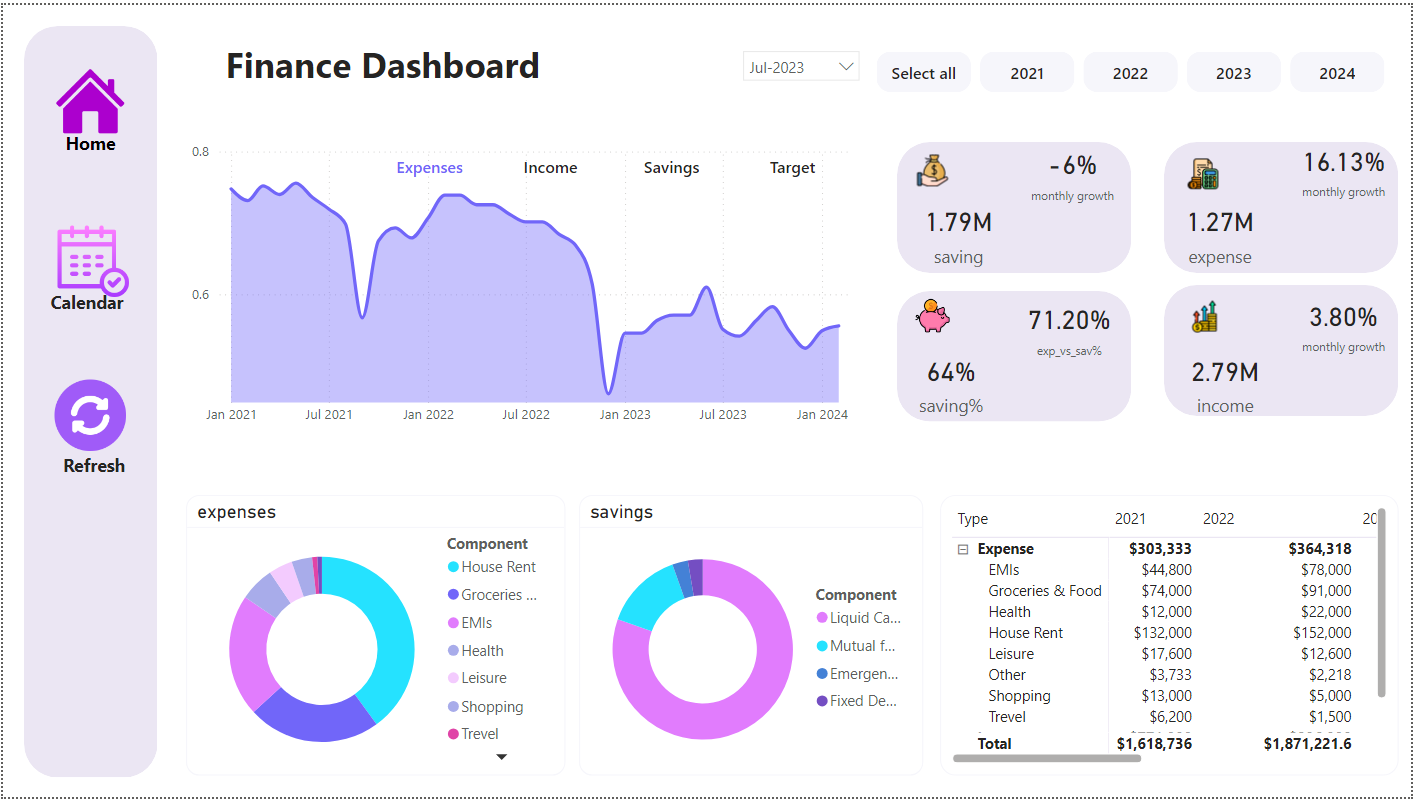

What the dashboard file says about the page in this screenshot:
{"tool":"powerbi","page":{"name":"Page 1","canvas":[1280,720],"ordinal":0},"visuals":[{"type":"shape","box":[1055.6,125,213,119],"z":0},{"type":"shape","box":[1055.6,254.7,213,119],"z":1000},{"type":"shape","box":[812.8,125,213,119],"z":2000},{"type":"shape","box":[813.1,259.7,213,118.7],"z":3000},{"type":"card","fields":{"Values":["FinData.saving"]},"box":[813.1,170.2,111.9,72.9],"z":4000},{"type":"card","fields":{"Values":["FinData.expense"]},"box":[1043.6,170.2,125.5,72.9],"z":5000},{"type":"card","fields":{"Values":["FinData.income"]},"box":[1060.2,283,102.1,119.6],"z":6000},{"type":"advancedSlicerVisual","fields":{"Values":["FinData.year"]},"box":[789,36.9,472.5,47.6],"z":7000},{"type":"donutChart","title":"savings","fields":{"Y":["FinData.saving"],"Category":["FinData.Component"]},"box":[523.6,445.1,313,254.7],"z":8000},{"type":"donutChart","title":"expenses","fields":{"Category":["FinData.Component"],"Y":["FinData.expense"]},"box":[166.6,445.1,345.1,254.7],"z":9000},{"type":"pivotTable","fields":{"Rows":["FinData.Type","FinData.Component"],"Values":["FinData.total_value"],"Columns":["FinData.year"]},"box":[852.1,445.1,416.5,254.7],"z":10000},{"type":"areaChart","fields":{"Category":["FinData.Date.Variation.Date Hierarchy.Year"],"Y":["FinData.line_chart_measures"]},"box":[166.6,119,622.4,271.3],"z":11000},{"type":"advancedSlicerVisual","fields":{"Values":["line_selection_table.Type"]},"box":[332,119,443.9,53.6],"z":12000},{"type":"textbox","box":[197.4,26.3,314.2,58.4],"z":13000},{"type":"card","fields":{"Values":["FinData.saving%"]},"box":[813.1,283,98.2,119.6],"z":14000},{"type":"shape","box":[19,19,121.4,683.1],"z":15000},{"type":"slicer","fields":{"Values":["selected_date.month"]},"box":[662.4,32.1,126.4,56.4],"z":16000},{"type":"card","fields":{"Values":["FinData.expenses_monthly_gr"]},"box":[1169.1,112.8,99.2,72],"z":17000},{"type":"card","fields":{"Values":["FinData.savings_monthly_gr"]},"box":[925,118.7,95.3,66.1],"z":18000},{"type":"card","fields":{"Values":["FinData.income_monthly_gr"]},"box":[1169.1,254.8,99.2,71],"z":19000},{"type":"card","fields":{"Values":["FinData.exp_vs_sav%"]},"box":[925,259.7,89.5,66.1],"z":20000},{"type":"image","box":[824.8,131.3,40.9,38.9],"z":21000},{"type":"image","box":[824.8,259.7,40.9,45.7],"z":22000},{"type":"image","box":[1070.9,134.2,40.9,37.9],"z":23000},{"type":"image","box":[1072.8,262.6,38.9,40.9],"z":24000},{"type":"image","box":[41.8,49.6,74.9,74.9],"z":25000},{"type":"textbox","box":[44.7,109.9,70,34],"z":26000},{"type":"image","box":[44.7,195.5,74.9,74.9],"z":27000},{"type":"textbox","box":[34,254.8,85.6,31.1],"z":28000},{"type":"image","box":[41.8,335.6,74.9,74.9],"z":29000},{"type":"textbox","box":[40.9,402.7,83.6,34],"z":30000},{"type":"actionButton","title":"refresh","box":[34,333.6,90.5,86.6],"z":31000},{"type":"actionButton","title":"show","box":[44.5,195.1,69.6,67.3],"z":33000}]}

Visuals, with their boxes on the page's 1280x720 design canvas (x1, y1, x2, y2). These are canvas units, not pixel positions in the 1418x802 screenshot, which may show the page scaled, cropped or inside an application window:
shape: {"x1": 1056, "y1": 125, "x2": 1269, "y2": 244}
shape: {"x1": 1056, "y1": 255, "x2": 1269, "y2": 374}
shape: {"x1": 813, "y1": 125, "x2": 1026, "y2": 244}
shape: {"x1": 813, "y1": 260, "x2": 1026, "y2": 378}
card - FinData.saving: {"x1": 813, "y1": 170, "x2": 925, "y2": 243}
card - FinData.expense: {"x1": 1044, "y1": 170, "x2": 1169, "y2": 243}
card - FinData.income: {"x1": 1060, "y1": 283, "x2": 1162, "y2": 403}
advancedSlicerVisual - FinData.year: {"x1": 789, "y1": 37, "x2": 1262, "y2": 84}
"savings" donutChart: {"x1": 524, "y1": 445, "x2": 837, "y2": 700}
"expenses" donutChart: {"x1": 167, "y1": 445, "x2": 512, "y2": 700}
pivotTable - FinData.Type x FinData.Component: {"x1": 852, "y1": 445, "x2": 1269, "y2": 700}
areaChart - FinData.Date.Variation.Date Hierarchy.Year x FinData.line_chart_measures: {"x1": 167, "y1": 119, "x2": 789, "y2": 390}
advancedSlicerVisual - line_selection_table.Type: {"x1": 332, "y1": 119, "x2": 776, "y2": 173}
textbox: {"x1": 197, "y1": 26, "x2": 512, "y2": 85}
card - FinData.saving%: {"x1": 813, "y1": 283, "x2": 911, "y2": 403}
shape: {"x1": 19, "y1": 19, "x2": 140, "y2": 702}
slicer - selected_date.month: {"x1": 662, "y1": 32, "x2": 789, "y2": 88}
card - FinData.expenses_monthly_gr: {"x1": 1169, "y1": 113, "x2": 1268, "y2": 185}
card - FinData.savings_monthly_gr: {"x1": 925, "y1": 119, "x2": 1020, "y2": 185}
card - FinData.income_monthly_gr: {"x1": 1169, "y1": 255, "x2": 1268, "y2": 326}
card - FinData.exp_vs_sav%: {"x1": 925, "y1": 260, "x2": 1014, "y2": 326}
image: {"x1": 825, "y1": 131, "x2": 866, "y2": 170}
image: {"x1": 825, "y1": 260, "x2": 866, "y2": 305}
image: {"x1": 1071, "y1": 134, "x2": 1112, "y2": 172}
image: {"x1": 1073, "y1": 263, "x2": 1112, "y2": 304}
image: {"x1": 42, "y1": 50, "x2": 117, "y2": 124}
textbox: {"x1": 45, "y1": 110, "x2": 115, "y2": 144}
image: {"x1": 45, "y1": 196, "x2": 120, "y2": 270}
textbox: {"x1": 34, "y1": 255, "x2": 120, "y2": 286}
image: {"x1": 42, "y1": 336, "x2": 117, "y2": 410}
textbox: {"x1": 41, "y1": 403, "x2": 124, "y2": 437}
"refresh" actionButton: {"x1": 34, "y1": 334, "x2": 124, "y2": 420}
"show" actionButton: {"x1": 44, "y1": 195, "x2": 114, "y2": 262}
